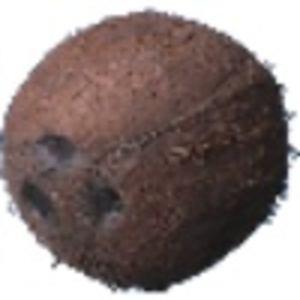coco: (1, 12, 300, 293)
